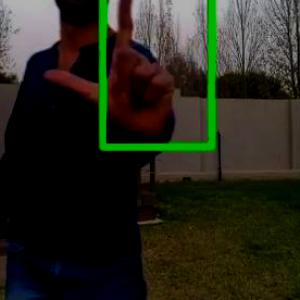land_hand: (39, 0, 178, 140)
